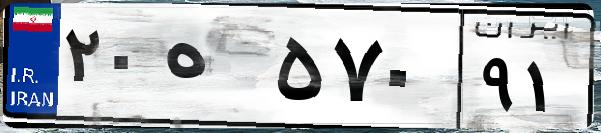0: (385, 28, 445, 110), (110, 28, 158, 98)
1: (525, 38, 570, 115)
2: (57, 26, 110, 100)
5: (270, 28, 330, 110)
7: (330, 28, 385, 110)
9: (475, 38, 525, 113)
ه: (158, 20, 270, 120)
